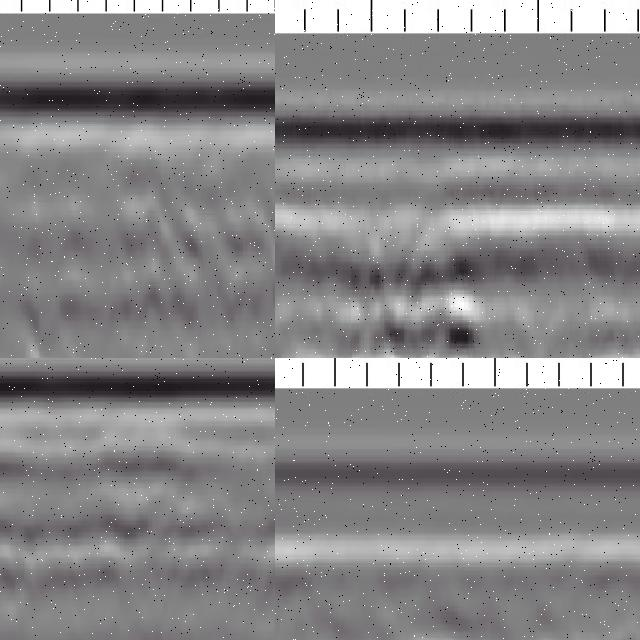loose: (1, 188, 276, 359), (1, 450, 276, 589), (319, 234, 503, 359)
